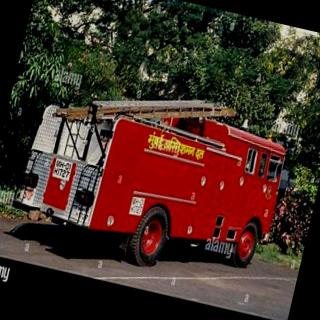Fire_truck: (4, 60, 296, 293)
